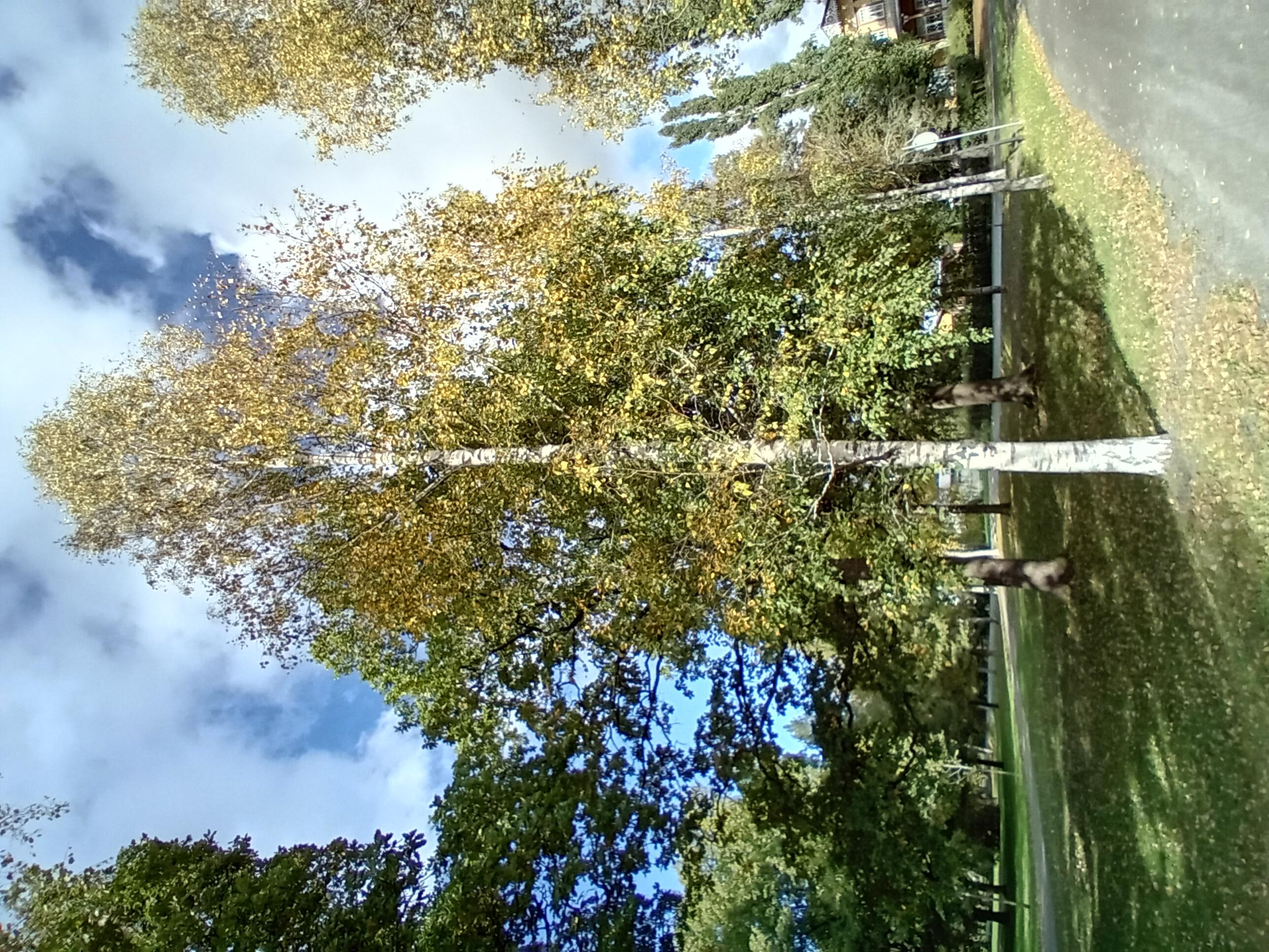Birch: (312, 10, 1065, 880)
